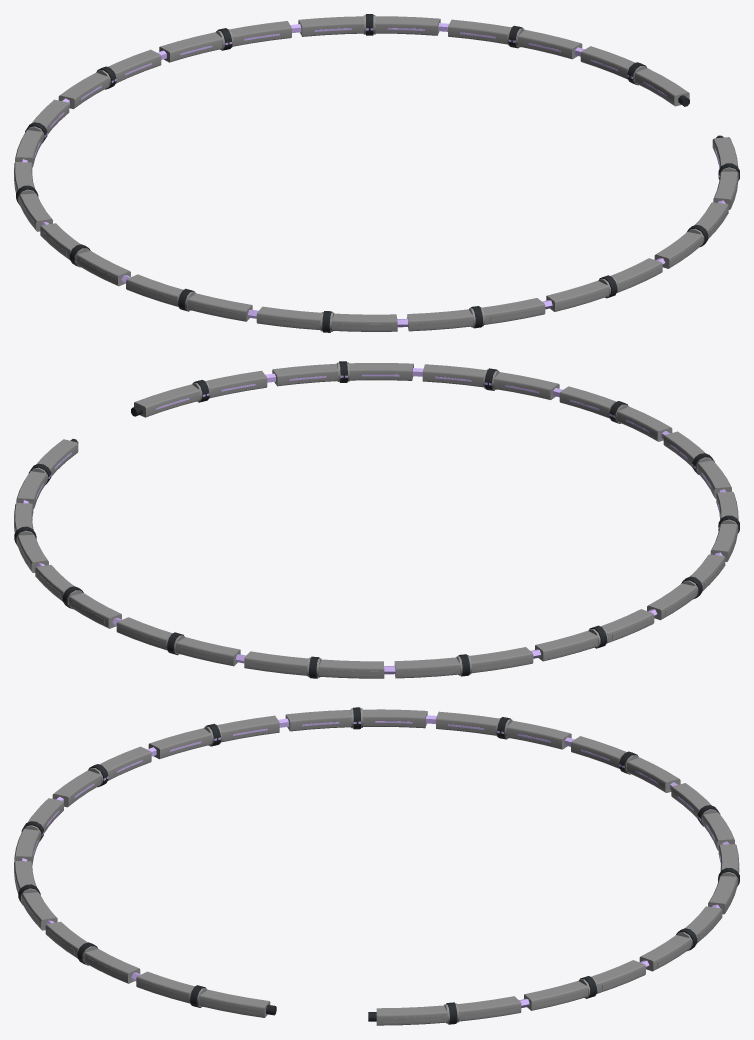
File: Core_Ring_B.fbx
3 renders of one model, top to bottom at view 1: azimuth 30°, elevation 25°; view 2: azimuth 150°, elevation 25°; view 3: azimuth 270°, elevation 25°, orthographic.
Parts seen in each view (by area): view 1: Core_Ring_B_LOD0; view 2: Core_Ring_B_LOD0; view 3: Core_Ring_B_LOD0.
Boxes of the visible parts, x1,y1,x2,y2 form: Core_Ring_B_LOD0: (14, 14, 739, 332); Core_Ring_B_LOD0: (14, 361, 739, 678); Core_Ring_B_LOD0: (14, 707, 739, 1025).
Size of what is drawn, in the model's own units: 19.73 by 0.5796 by 19.72.
